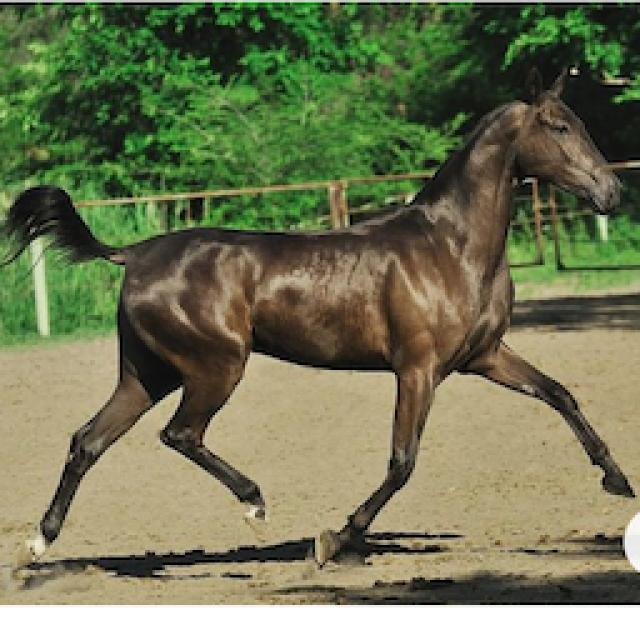Horse: (0, 60, 638, 570)
